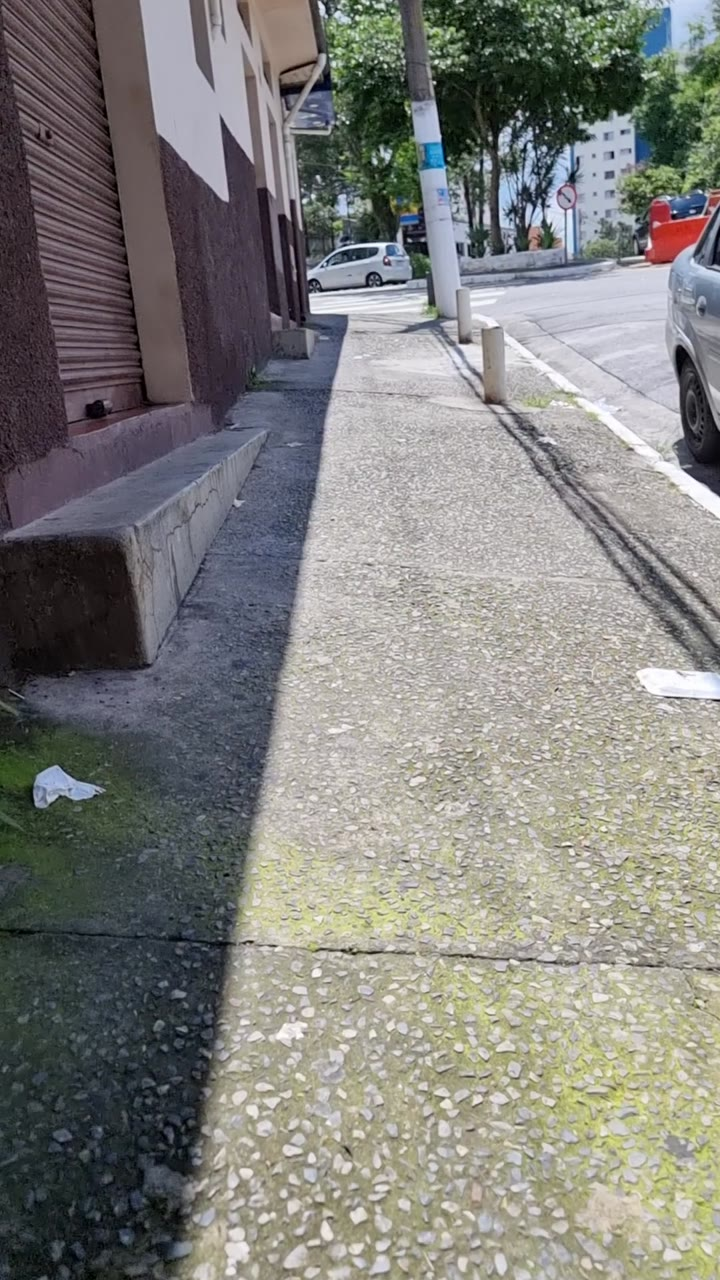desnivel: (0, 512, 230, 678)
obstaculo: (410, 0, 454, 243), (457, 288, 471, 343)
